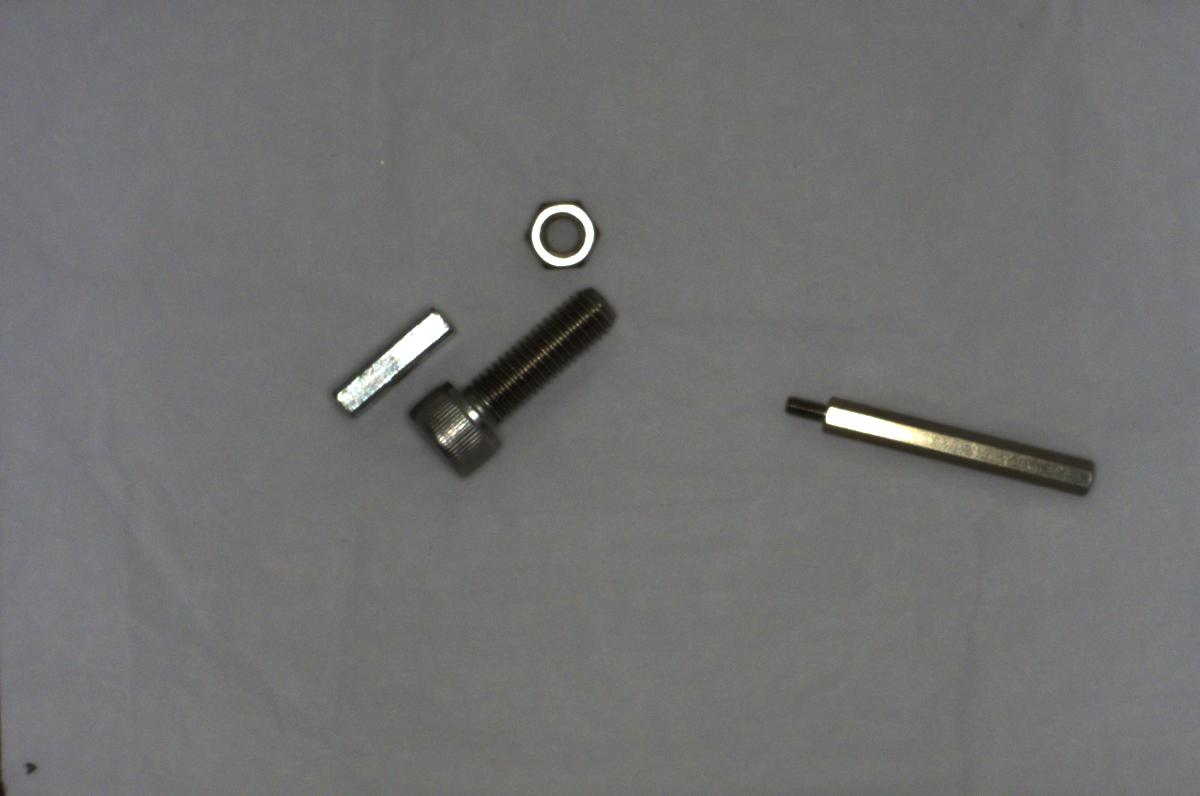Hexagon nut: (518, 192, 599, 273)
Hexagon screw: (400, 279, 627, 485)
Hexagonal steel column: (772, 375, 1104, 500)
Rectangular nut: (314, 300, 461, 427)
